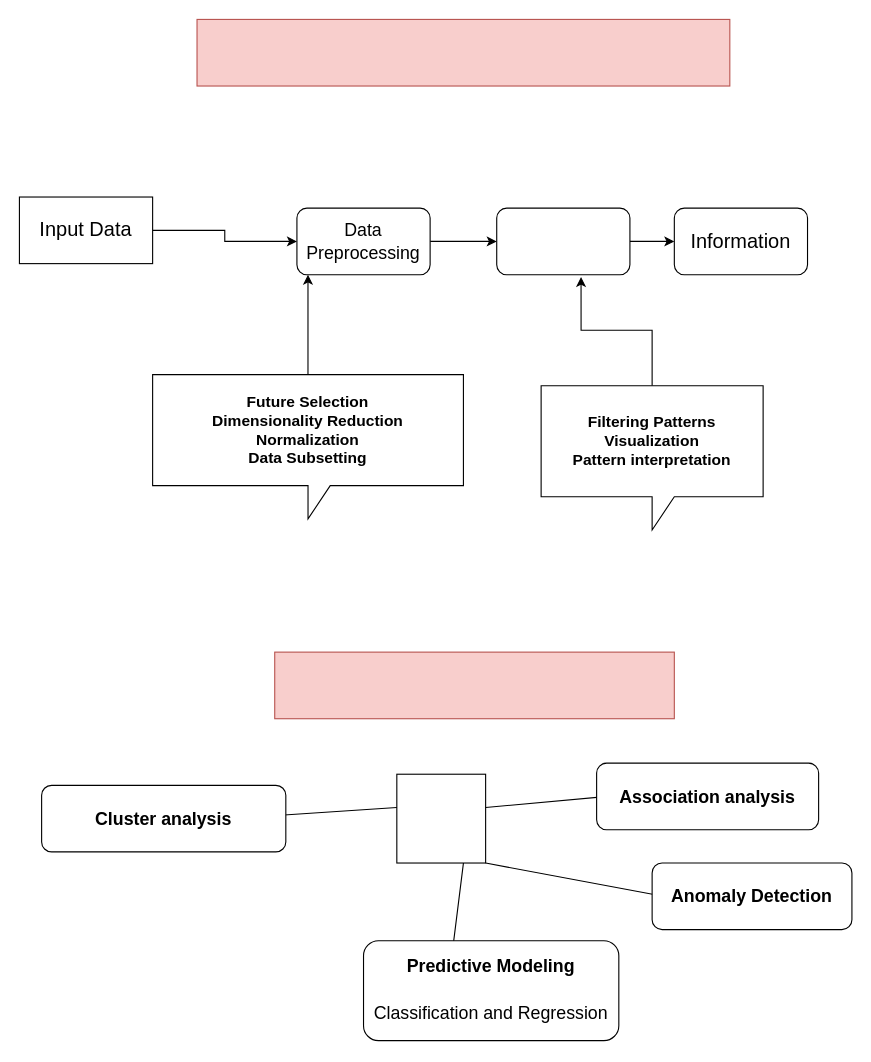
This 871x1062 diagram has some shape labels left out. The shapes that lost their labels are listed below. From the top down, each one's centre as x and y in pixels, then its label:
At (x=463, y=52): "THE PROCESS OF KNOWLEDGE DISCOVERY IN DATABASES".
At (x=563, y=241): "Data Postprocessing".
At (x=474, y=685): "Four of the core data mining tasks".
At (x=441, y=818): "DATA".
